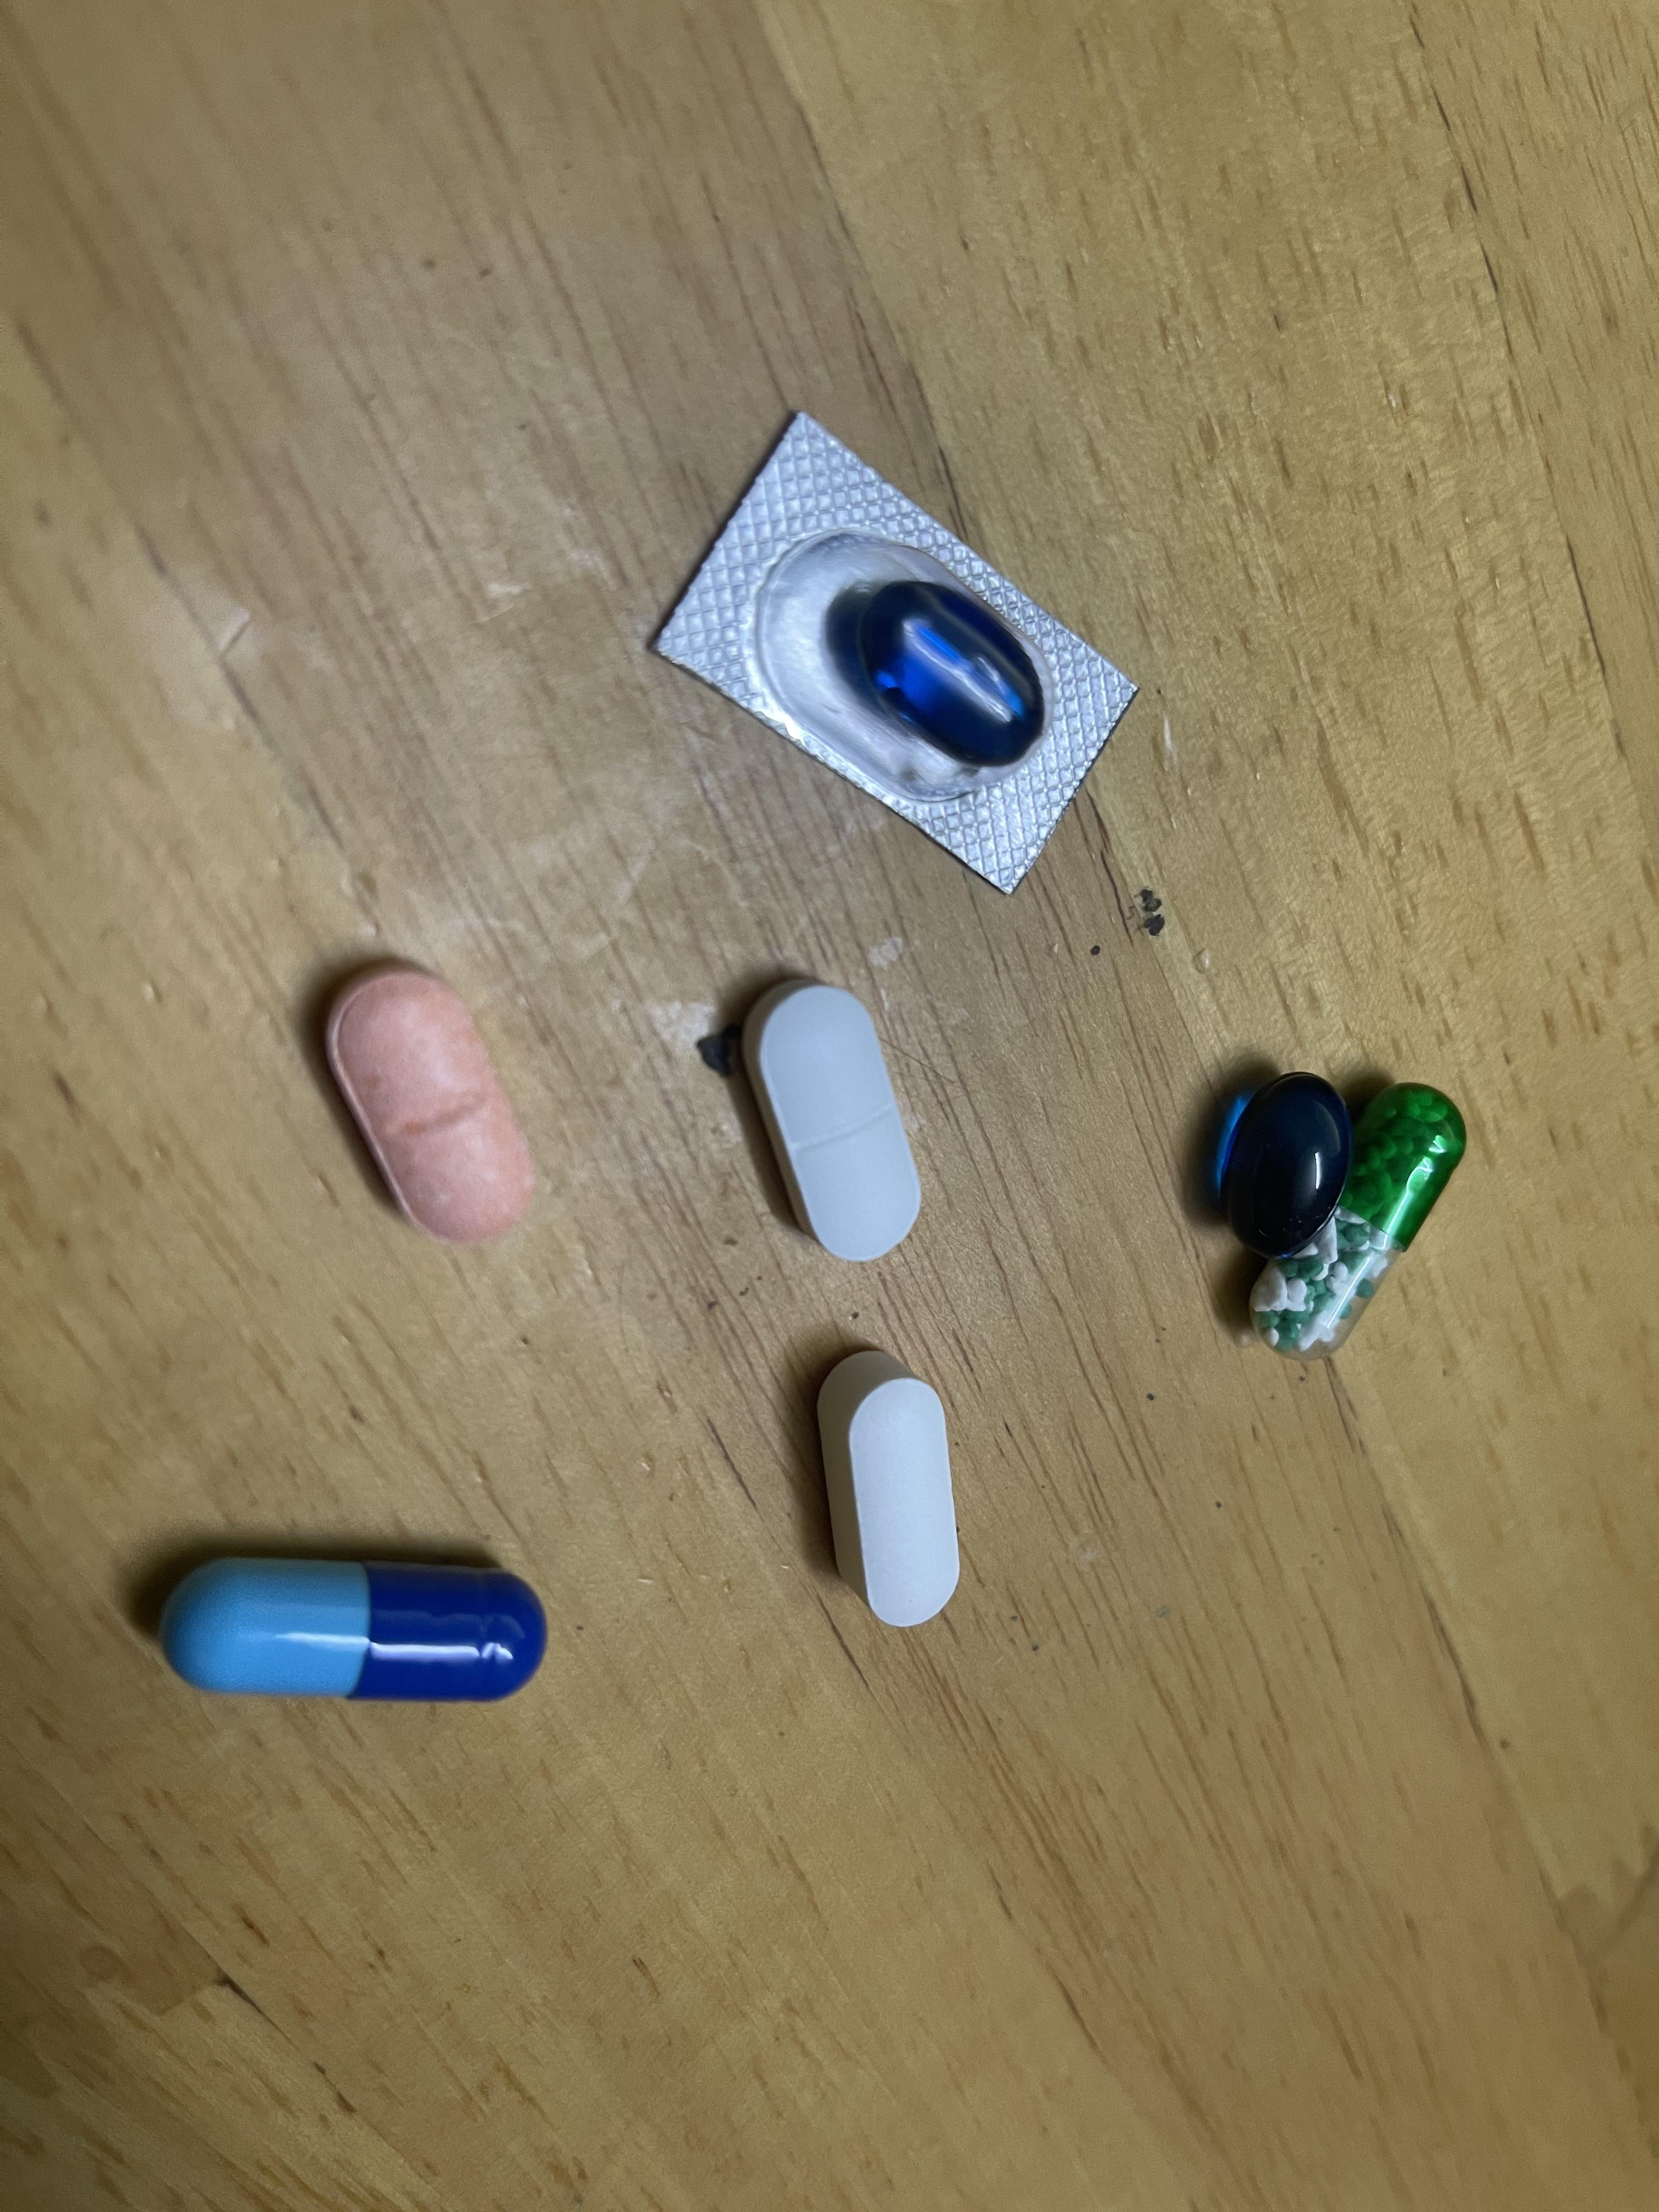Lincomyxin_500mg: (847, 580, 1051, 773), (1208, 1069, 1351, 1256)
Loratadine_10mg: (328, 956, 538, 1244)
Paracetamol_350mg: (748, 975, 924, 1264)
Paracetamol_500mg: (836, 1369, 962, 1623)
Paracetamol_650mg: (1243, 1083, 1476, 1353)
pill: (166, 1554, 535, 1700)
